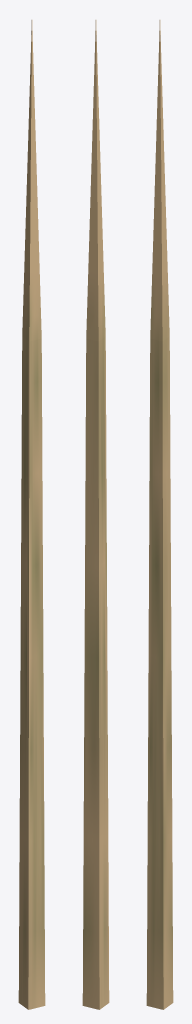
The model's file is Foods_Stick.fbx.
3 views of the same model, side by side, from view 1: azimuth 30°, elevation 25°; view 2: azimuth 150°, elevation 25°; view 3: azimuth 330°, elevation 25° (orthographic).
Parts seen in each view (by area): view 1: Stick; view 2: Stick; view 3: Stick.
Boxes of the visible parts, <box> form: Stick: <box>18,20,45,1009</box>; Stick: <box>82,20,109,1009</box>; Stick: <box>146,20,173,1009</box>.
Bounding box in the file's own units: 15.78 × 15.78 × 890.
1 material, 1 textured.
